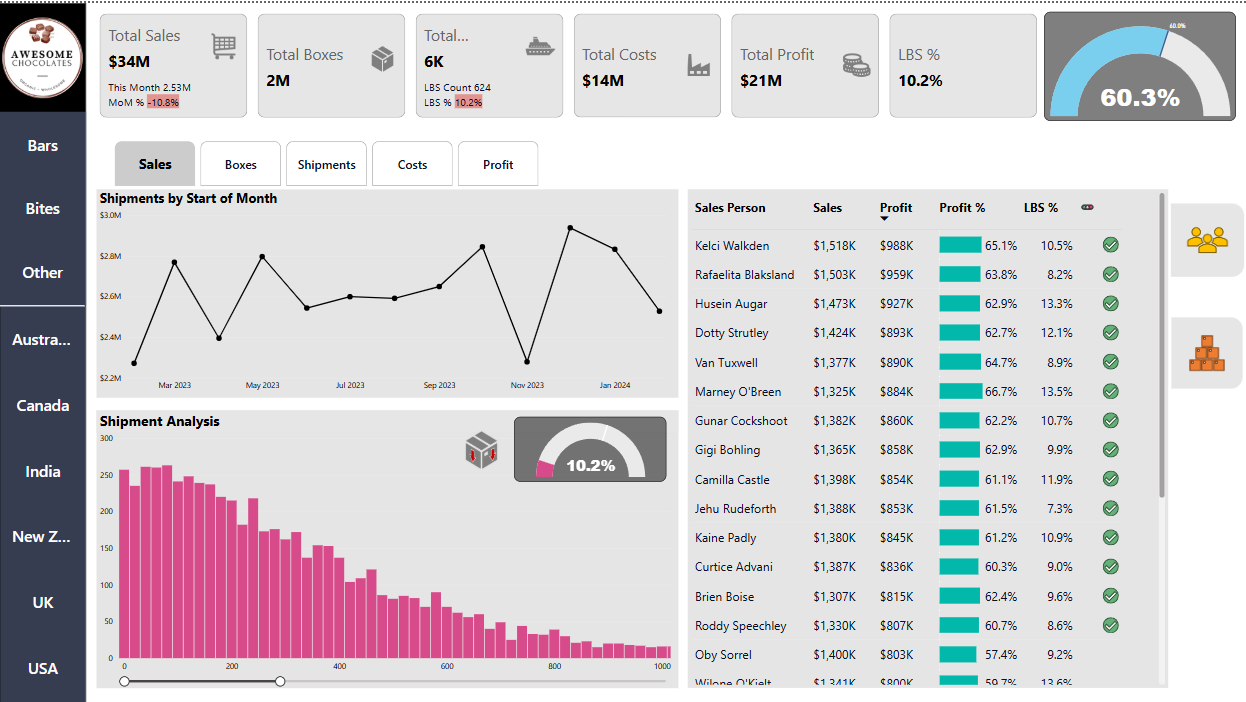

What the dashboard file says about the page in this screenshot:
{"tool":"powerbi","page":{"name":"Sales Report","canvas":[1920,1080],"ordinal":0},"visuals":[{"type":"shape","box":[0,0,134.1,1079.5],"z":0},{"type":"cardVisual","fields":{"Data":["_Measure.Total Sales","_Measure.Total Boxes","_Measure.Total Shipments","_Measure.Total Costs","_Measure.Total Profit","_Measure.LBS %"]},"box":[150,11.4,1456.8,170.5],"z":1000},{"type":"gauge","fields":{"Y":["_Measure.Profit %"]},"box":[1606.8,13.6,295.5,168.2],"z":2000},{"type":"image","box":[0,0,134.1,168.2],"z":3000},{"type":"lineChart","title":" Shipments by Start of Month","fields":{"Y":["_Measure.Total Sales"],"Category":["calendar.Start of Month"]},"box":[150,286.4,895.5,320.5],"z":4000},{"type":"advancedSlicerVisual","fields":{"Values":["Measured Selector.Measured Selector"]},"box":[172.7,206.8,663.6,79.5],"z":5000},{"type":"columnChart","title":"Shipment Analysis","fields":{"Category":["shipments.Boxes (bins)"],"Y":["_Measure.Total Shipments"]},"box":[150,627.3,895.5,427.3],"z":6000},{"type":"gauge","fields":{"Y":["_Measure.LBS %"]},"box":[793.2,636.4,234.1,100],"z":7000},{"type":"image","box":[693.2,647.7,100,79.5],"z":8000},{"type":"tableEx","title":"people details","fields":{"Values":["shipments.Sales Person","_Measure.Total Sales","_Measure.Total Profit","_Measure.Profit %","_Measure.LBS %","_Measure.Profit Target Indicator"]},"box":[1059.4,286.7,739.2,767.1],"z":9000},{"type":"advancedSlicerVisual","fields":{"Values":["products.Category"]},"box":[0,168.2,134.1,297.7],"z":11000},{"type":"advancedSlicerVisual","fields":{"Values":["locations.Geo"]},"box":[2.3,465.9,131.8,613.6],"z":12000},{"type":"shape","box":[0,325,131.8,281.8],"z":13000},{"type":"image","title":"people","box":[1797.6,269.6,122.9,190.8],"z":14000},{"type":"image","title":"product","box":[1798.1,479.4,121.5,119.3],"z":15000}]}

Visuals, with their boxes on the page's 1920x1080 design canvas (x1, y1, x2, y2). These are canvas units, not pixel positions in the 1246x702 screenshot, which may show the page scaled, cropped or inside an application window:
shape: <bbox>0, 0, 134, 1080</bbox>
cardVisual - _Measure.Total Sales x _Measure.Total Boxes: <bbox>150, 11, 1607, 182</bbox>
gauge - _Measure.Profit %: <bbox>1607, 14, 1902, 182</bbox>
image: <bbox>0, 0, 134, 168</bbox>
" Shipments by Start of Month" lineChart: <bbox>150, 286, 1046, 607</bbox>
advancedSlicerVisual - Measured Selector.Measured Selector: <bbox>173, 207, 836, 286</bbox>
"Shipment Analysis" columnChart: <bbox>150, 627, 1046, 1055</bbox>
gauge - _Measure.LBS %: <bbox>793, 636, 1027, 736</bbox>
image: <bbox>693, 648, 793, 727</bbox>
"people details" tableEx: <bbox>1059, 287, 1799, 1054</bbox>
advancedSlicerVisual - products.Category: <bbox>0, 168, 134, 466</bbox>
advancedSlicerVisual - locations.Geo: <bbox>2, 466, 134, 1080</bbox>
shape: <bbox>0, 325, 132, 607</bbox>
"people" image: <bbox>1798, 270, 1920, 460</bbox>
"product" image: <bbox>1798, 479, 1920, 599</bbox>
